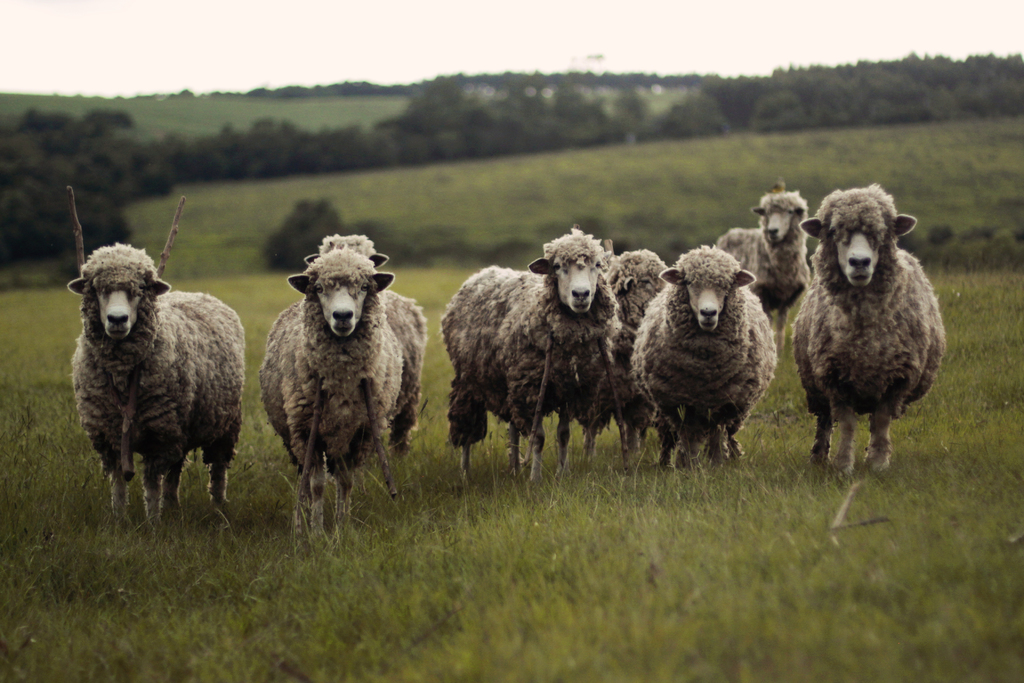sheep: (67, 239, 248, 532), (786, 179, 952, 482), (437, 229, 624, 486), (259, 249, 406, 543), (630, 242, 779, 469), (301, 232, 427, 453)
